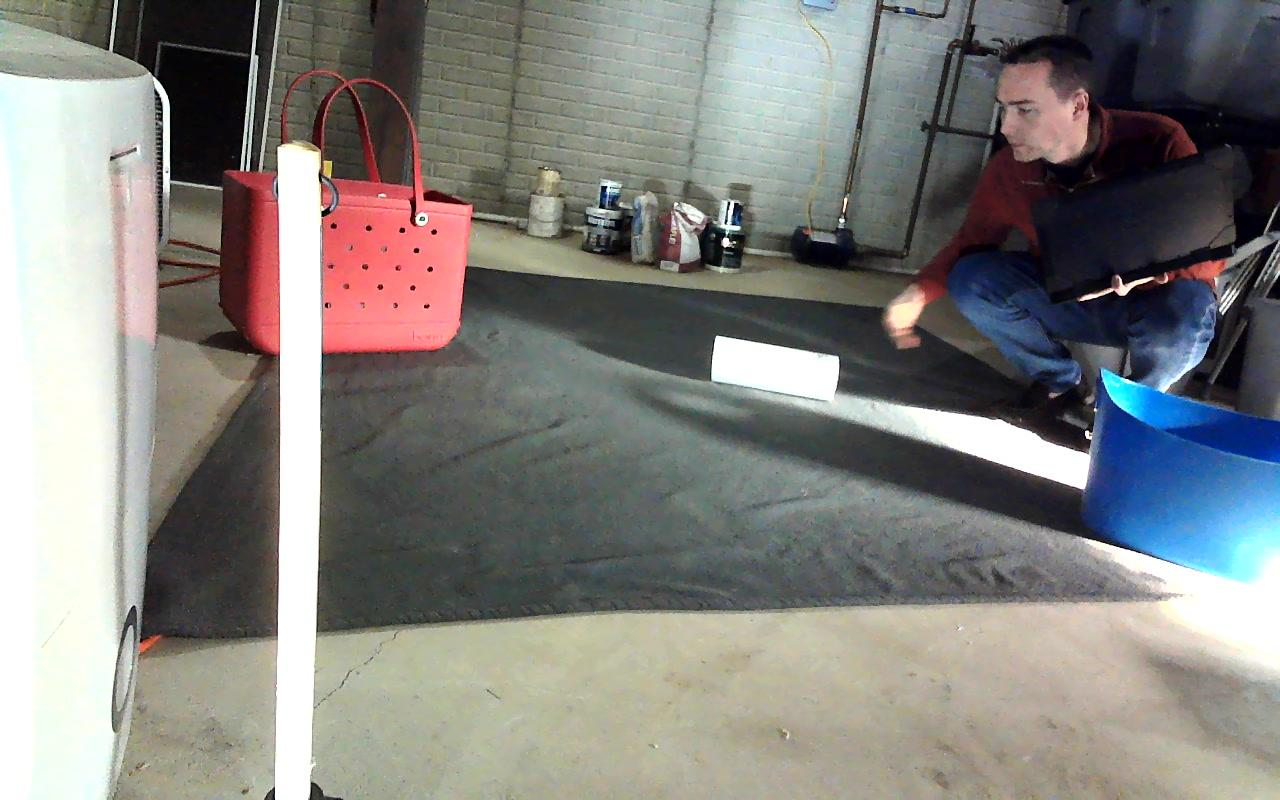coral: (710, 336, 838, 401)
